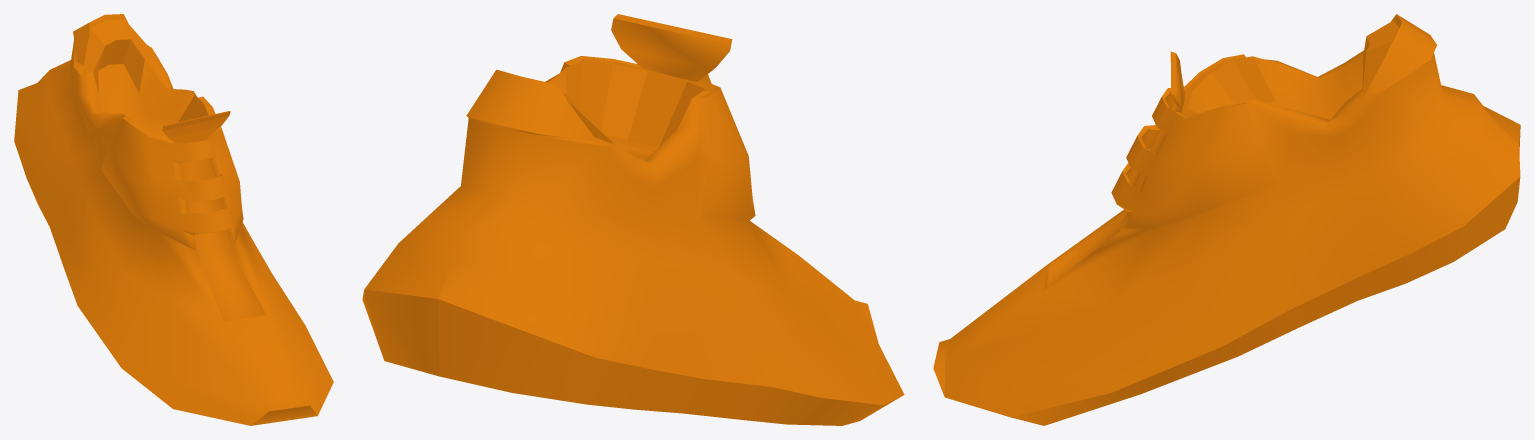
Rendered from shoe_prop.glb.
The picture shows the model from 3 angles, left to right: view 1: azimuth 30°, elevation 25°; view 2: azimuth 150°, elevation 25°; view 3: azimuth 270°, elevation 25°; orthographic projection. The views are drawn at different scales.
Visible parts, largest first — view 1: Shoes_Prop; view 2: Shoes_Prop; view 3: Shoes_Prop.
Boxes of the visible parts, x1=… form: Shoes_Prop: x1=14, y1=14, x2=333, y2=425; Shoes_Prop: x1=362, y1=14, x2=904, y2=425; Shoes_Prop: x1=933, y1=14, x2=1520, y2=425.
Bounding box in the file's own units: 1.09 × 1.63 × 2.34.
1 material, 1 textured.
